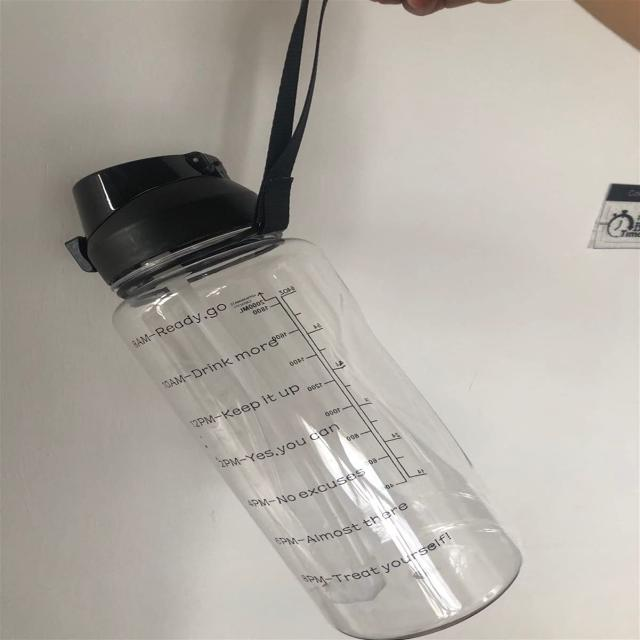plastic_bottle: (35, 124, 607, 640)
